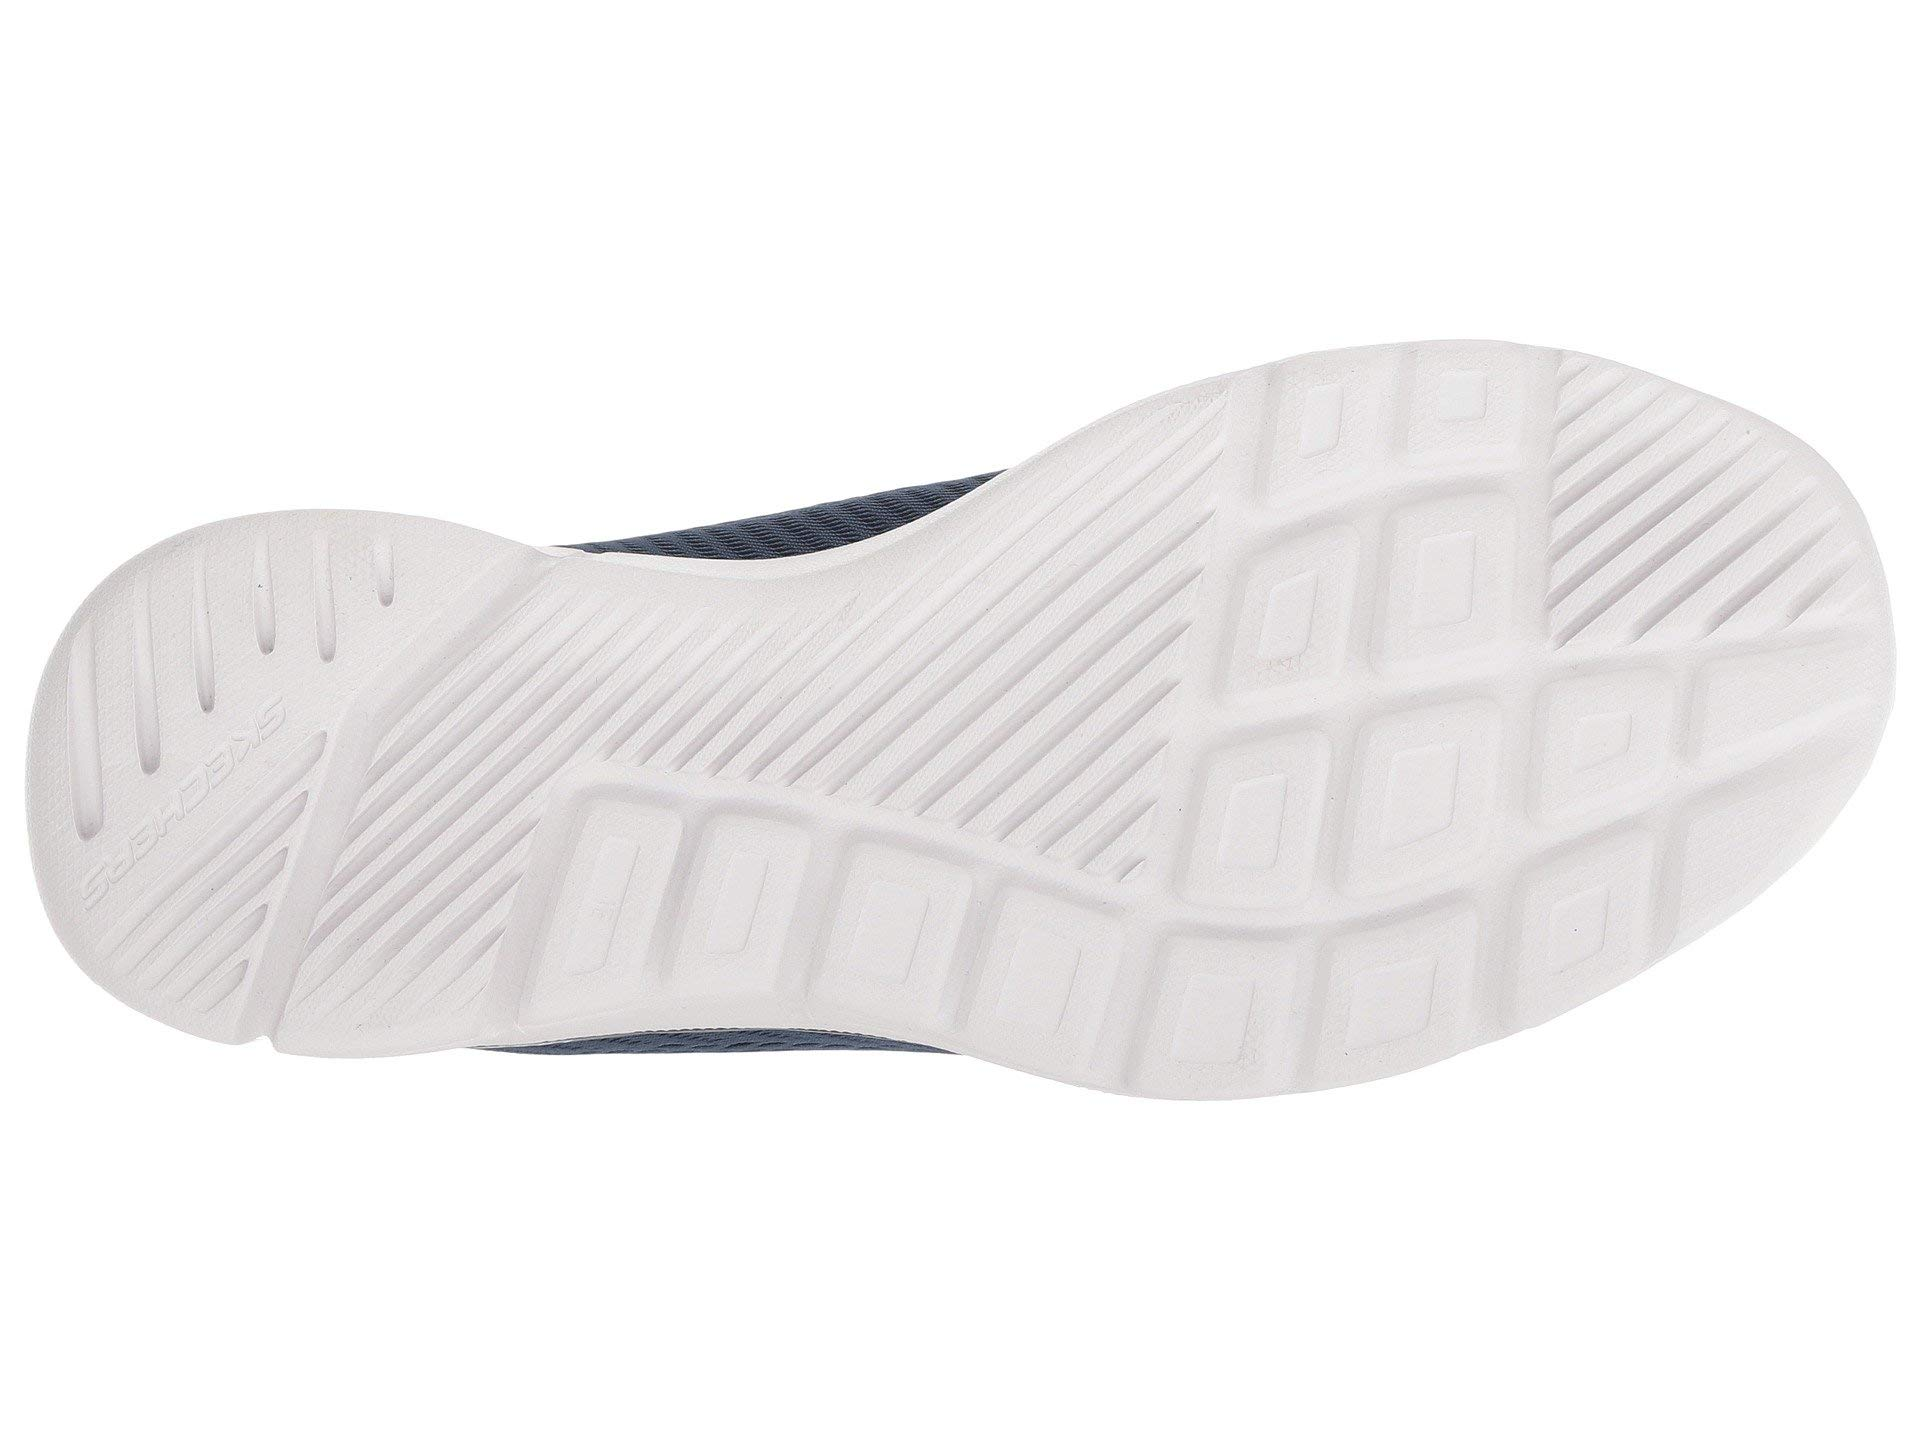line: (1565, 433, 1755, 616), (990, 542, 1181, 722)
quad: (1206, 715, 1556, 1119)
